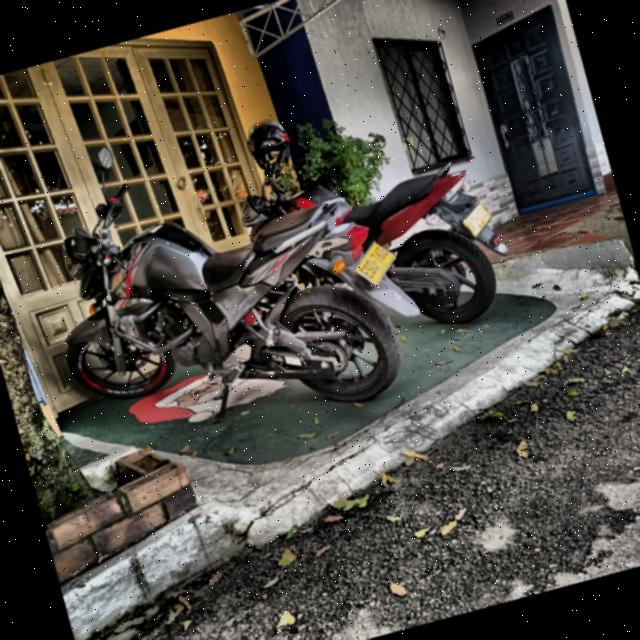6: (372, 248, 386, 261)
7: (369, 251, 384, 264)
E: (359, 266, 374, 280)
G: (374, 245, 388, 257)
O: (365, 259, 379, 271)
S: (362, 262, 377, 276)
